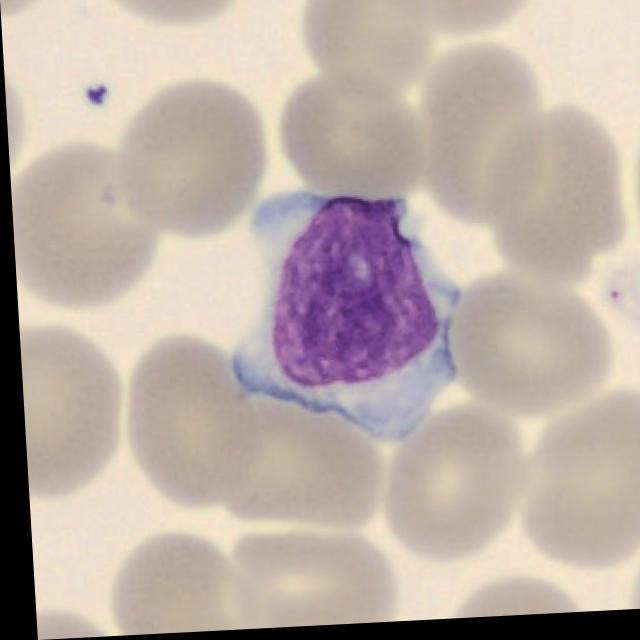Linfocito atipico: (227, 193, 454, 443)
